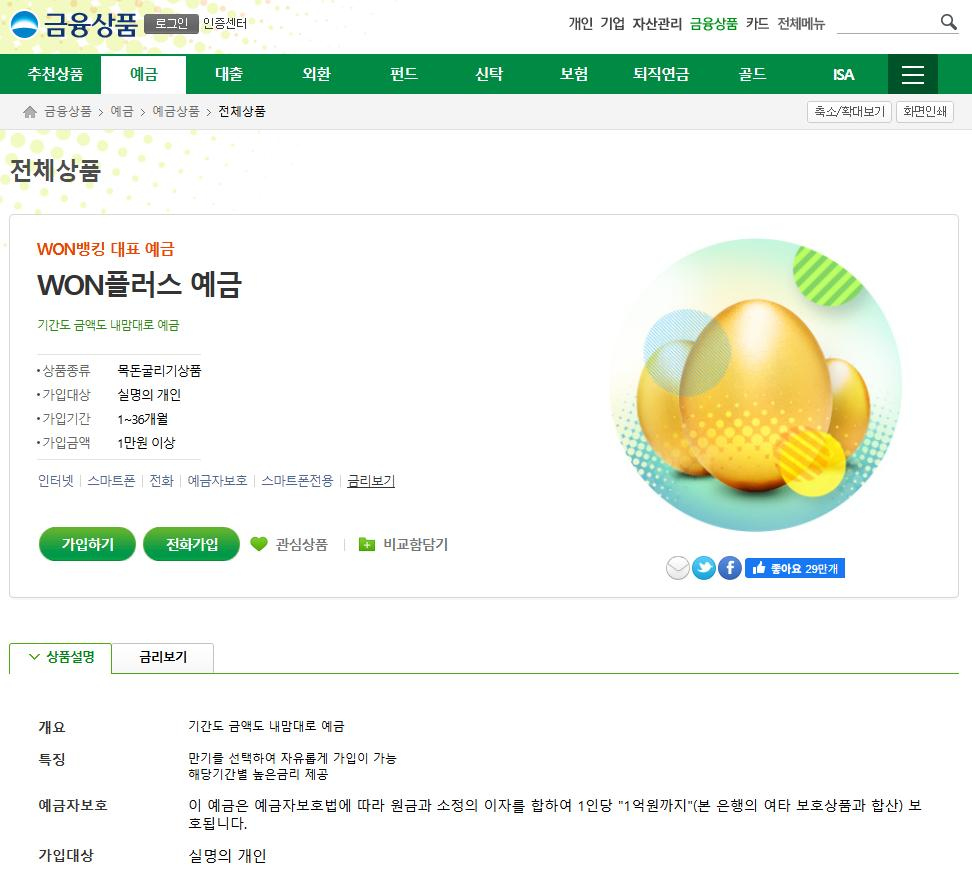button: (36, 522, 136, 563), (144, 524, 243, 560), (102, 53, 186, 93), (246, 524, 336, 561), (348, 529, 461, 557), (114, 641, 213, 672), (458, 53, 528, 95), (190, 53, 267, 91), (365, 58, 442, 96), (619, 60, 707, 93), (13, 58, 99, 91), (544, 54, 606, 96), (280, 58, 350, 95), (887, 50, 938, 93), (724, 58, 790, 91), (816, 54, 866, 94), (807, 100, 890, 123), (629, 6, 683, 41), (687, 7, 737, 40), (776, 7, 826, 39), (343, 467, 402, 493), (141, 10, 197, 36), (896, 100, 954, 124), (740, 4, 775, 40), (561, 10, 594, 41), (600, 7, 628, 41), (689, 554, 716, 586), (715, 553, 742, 584), (662, 554, 688, 585)
checkbox: (14, 642, 110, 673)
input_field: (829, 3, 964, 43)
